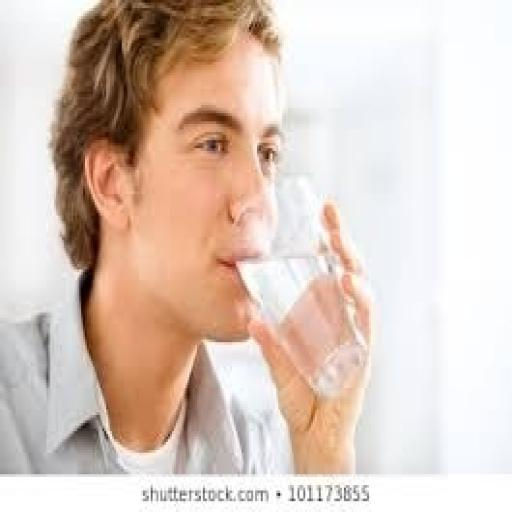drinking: (234, 170, 369, 399)
